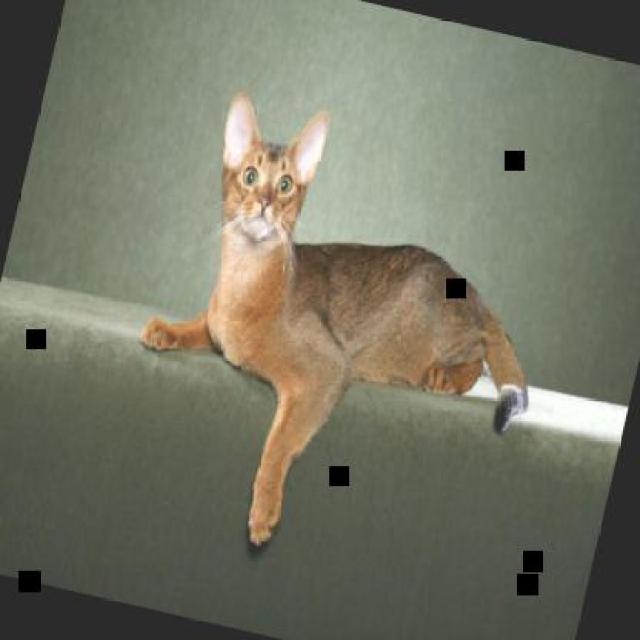cat: (102, 80, 582, 597)
